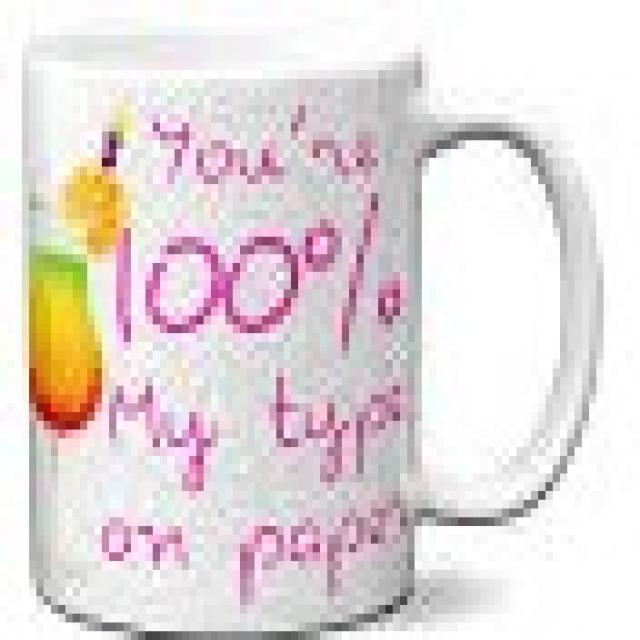taza: (2, 10, 606, 638)
